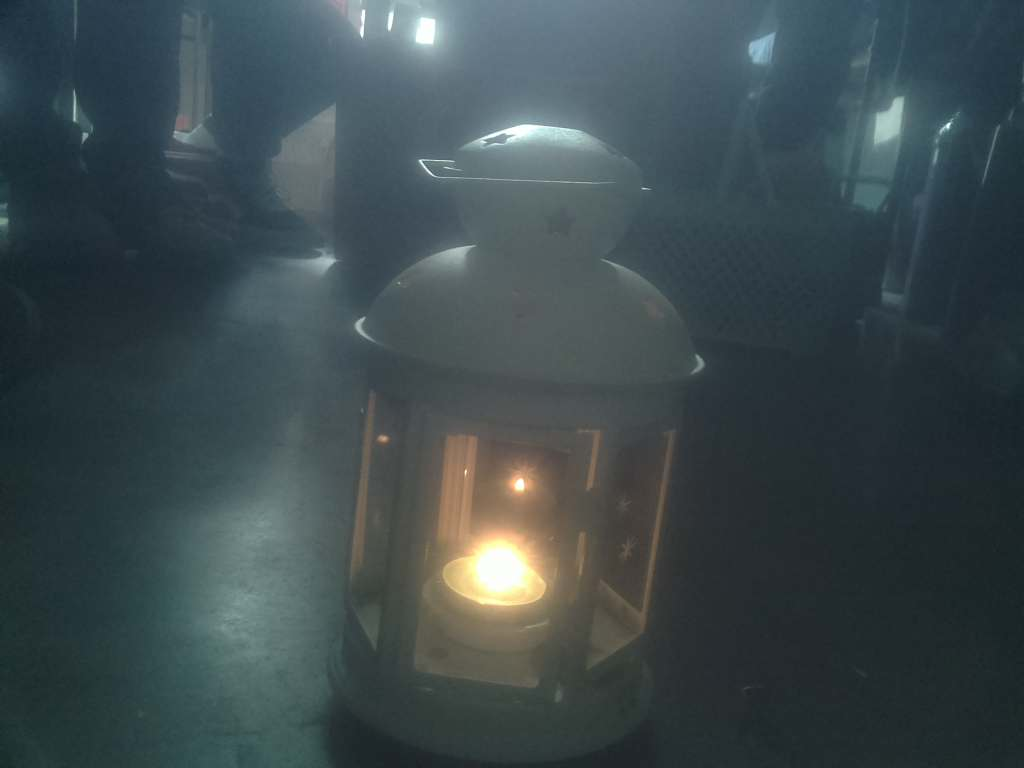fire: (423, 527, 588, 670)
